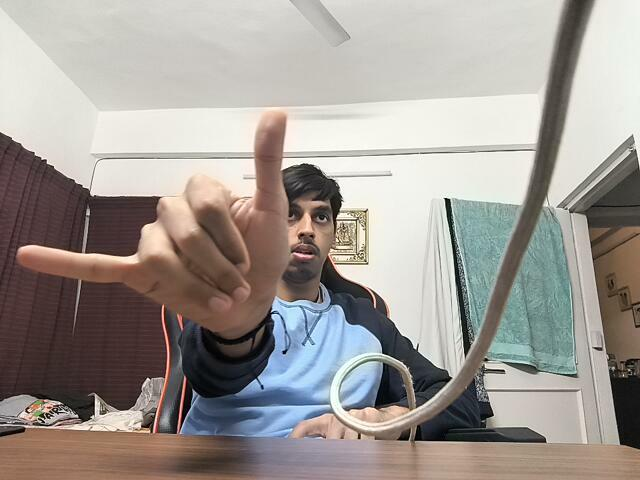FLIP: (16, 98, 293, 334)
